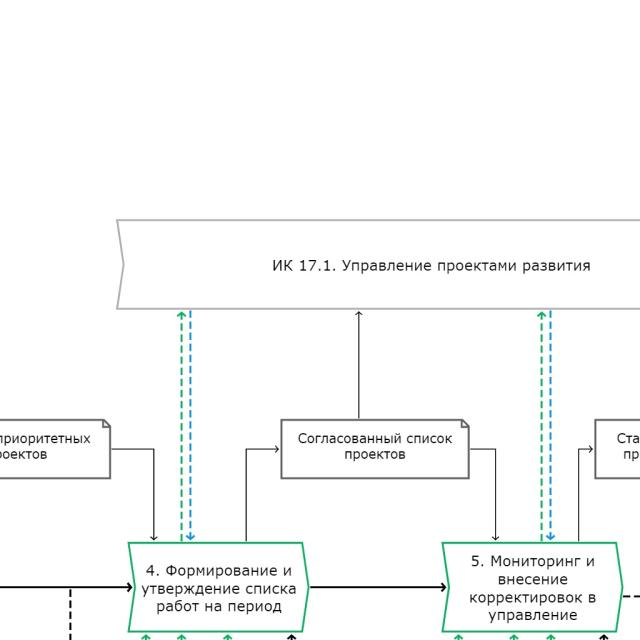arrow: (108, 443, 164, 541), (239, 442, 277, 540), (469, 445, 504, 543), (174, 309, 185, 541), (536, 309, 547, 541), (186, 309, 196, 542), (310, 580, 447, 595), (546, 308, 554, 542), (575, 443, 593, 542), (354, 310, 363, 418)
rectangle: (127, 542, 310, 630), (442, 546, 622, 632), (281, 419, 469, 479)
